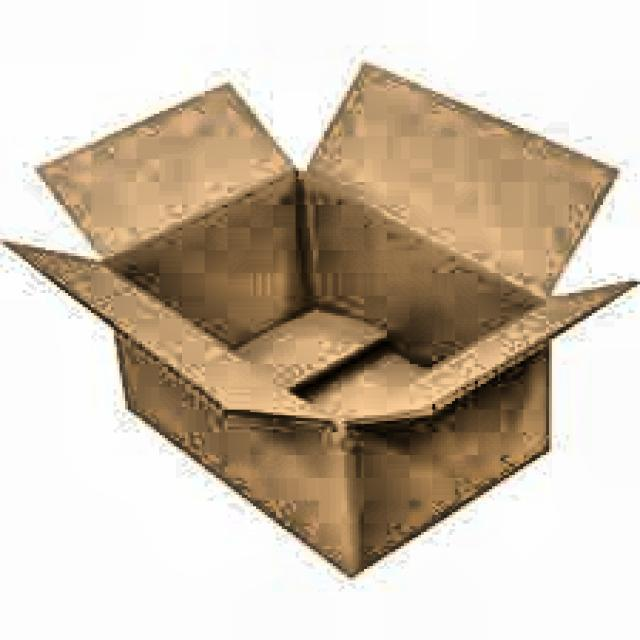cardboard: (0, 60, 637, 578)
